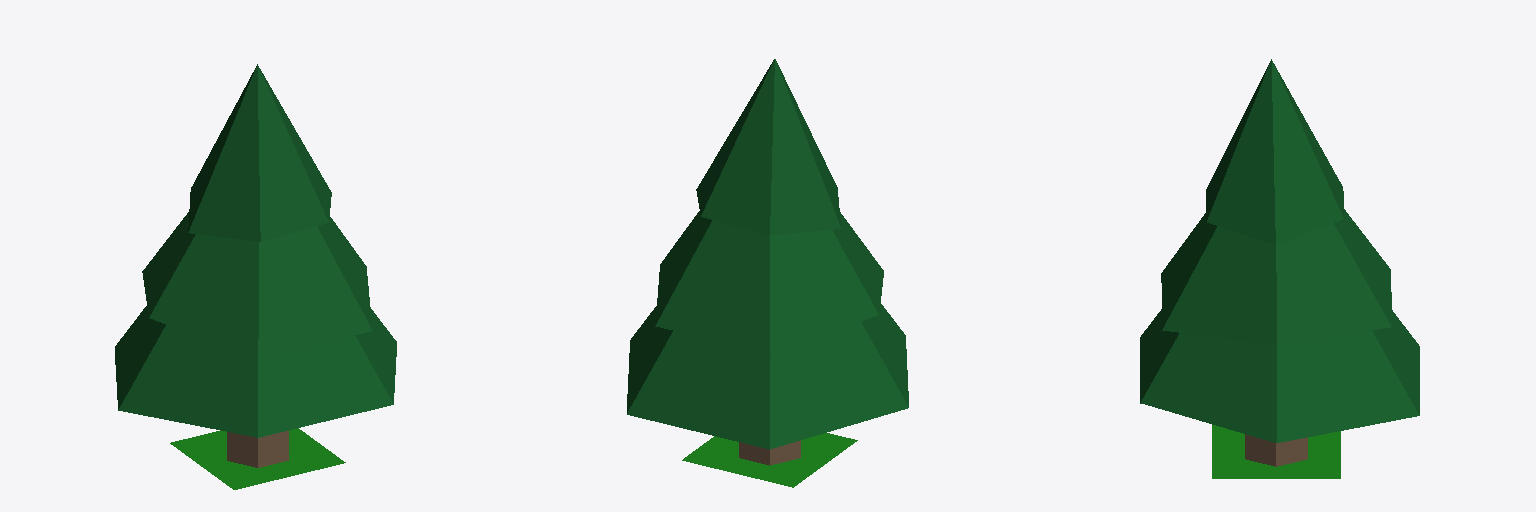
Rendered from tree.obj.
3 views of the same model, side by side, from view 1: azimuth 30°, elevation 25°; view 2: azimuth 150°, elevation 25°; view 3: azimuth 270°, elevation 25° (orthographic).
Visible parts, largest first — view 1: mergedBlocks; view 2: mergedBlocks; view 3: mergedBlocks.
Part boxes in pixels (x1,y1,x2,y2): mergedBlocks: (115, 64, 396, 489); mergedBlocks: (627, 59, 908, 487); mergedBlocks: (1140, 59, 1419, 478).
Size of the model in its own units: 2.49 by 3.33 by 2.16.